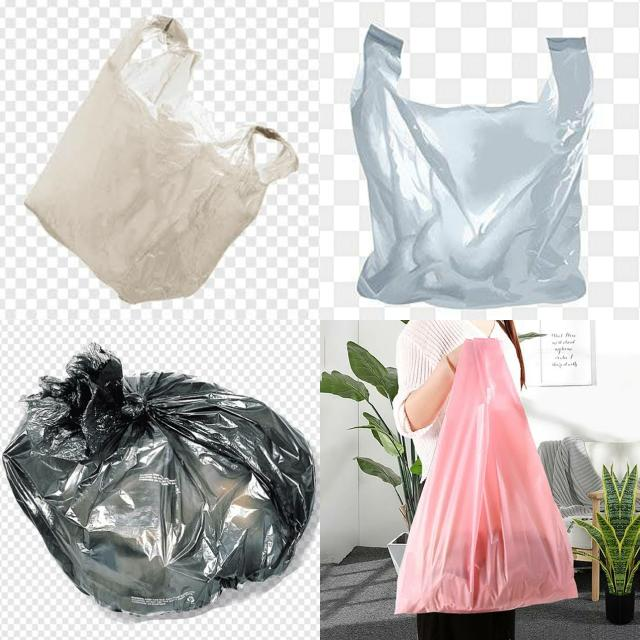Single-layer Plastic: (4, 345, 314, 615), (25, 16, 299, 304), (351, 25, 592, 309), (396, 339, 576, 614)
